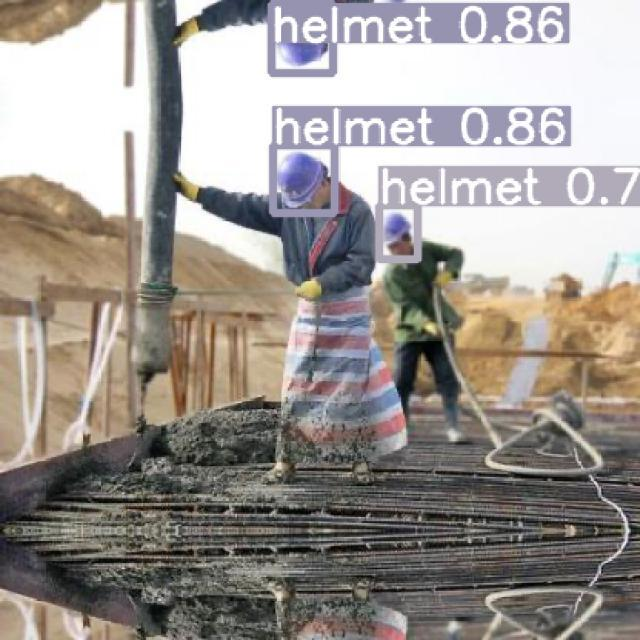Helmet: (275, 151, 327, 209)
